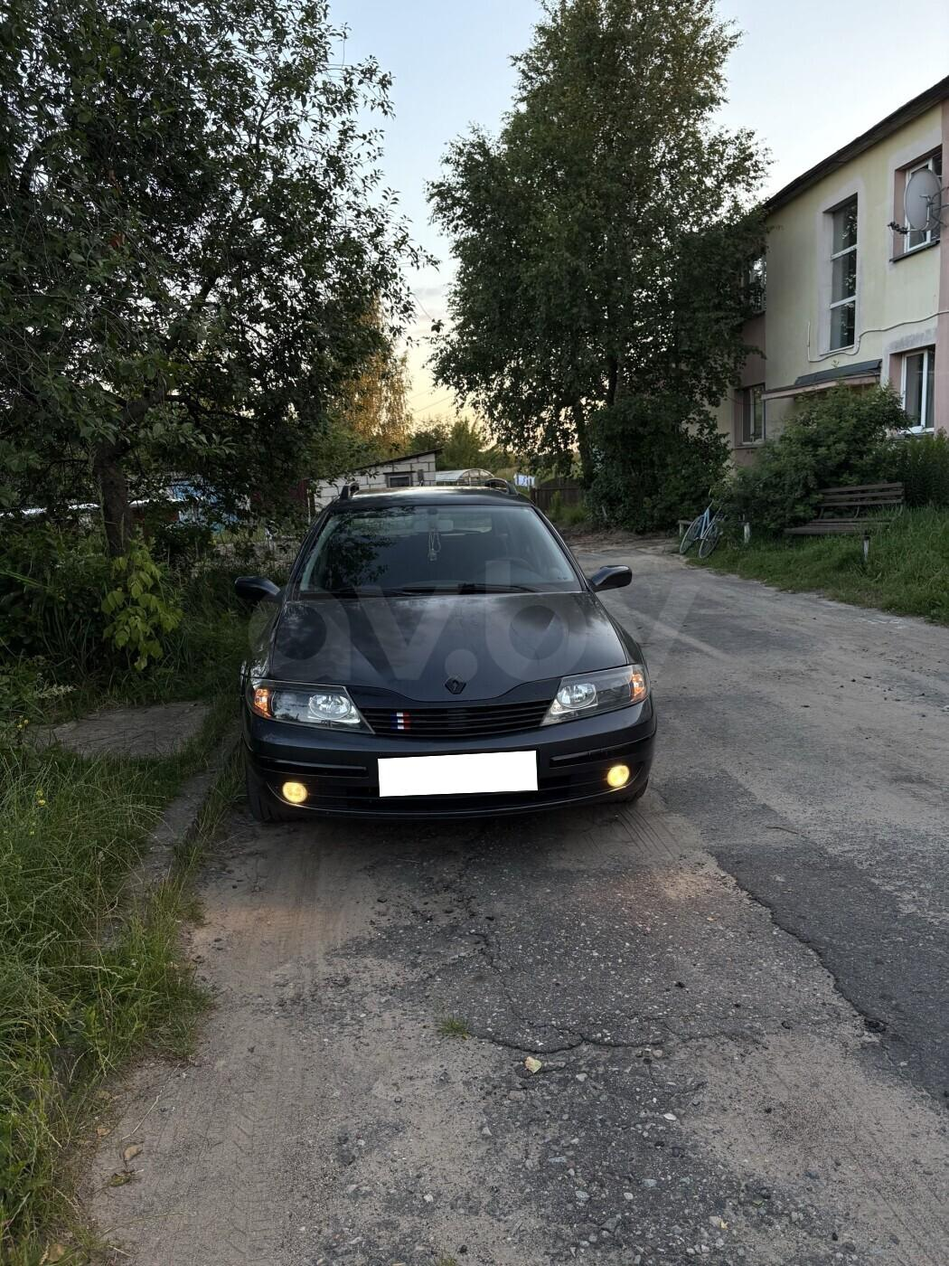Laguna_2001-2005: (236, 487, 655, 821)
